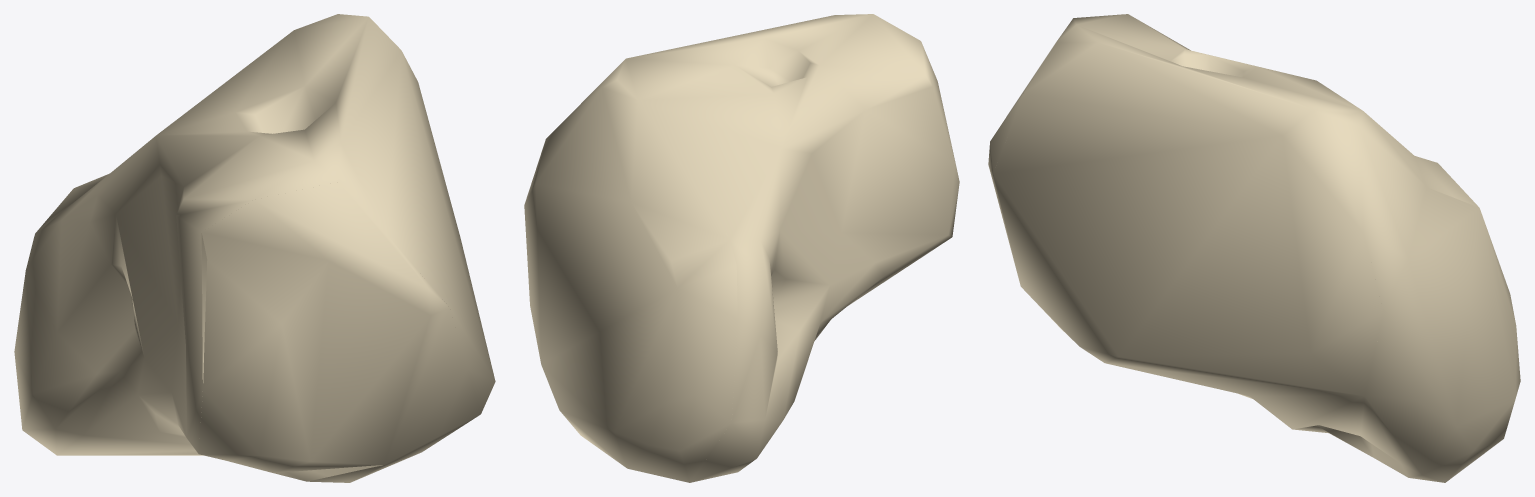
The model's file is esqueleto-trapezoid-bone-l.glb.
3 renders of one model, left to right at view 1: azimuth 30°, elevation 25°; view 2: azimuth 150°, elevation 25°; view 3: azimuth 270°, elevation 25°, orthographic. The views are drawn at different scales.
Visible parts, largest first — view 1: Trapezoid bone.l; view 2: Trapezoid bone.l; view 3: Trapezoid bone.l.
Boxes of the visible parts, box(x1,y1,x2,y2) form: Trapezoid bone.l: box(14, 14, 495, 482); Trapezoid bone.l: box(524, 14, 959, 482); Trapezoid bone.l: box(988, 14, 1520, 482).
Bounding box in the file's own units: 0.0117 × 0.0131 × 0.0155.
